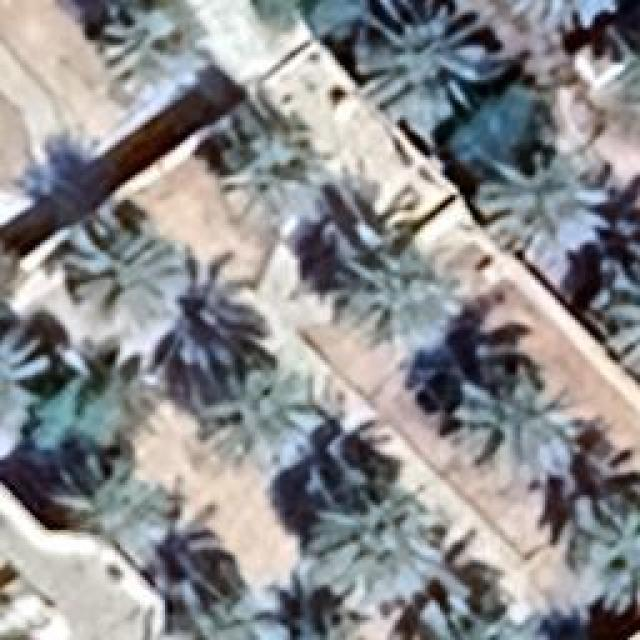PalmTree: (27, 68, 84, 606), (325, 205, 470, 358), (84, 85, 130, 515), (358, 0, 498, 140), (442, 360, 588, 492), (475, 150, 610, 265), (40, 332, 165, 450), (58, 215, 180, 335), (198, 120, 314, 245), (198, 348, 318, 462), (326, 482, 436, 602), (100, 2, 210, 116), (578, 495, 638, 615), (440, 570, 532, 640), (0, 328, 48, 462), (590, 260, 638, 370), (271, 595, 364, 640), (168, 600, 262, 638), (500, 0, 610, 32)
